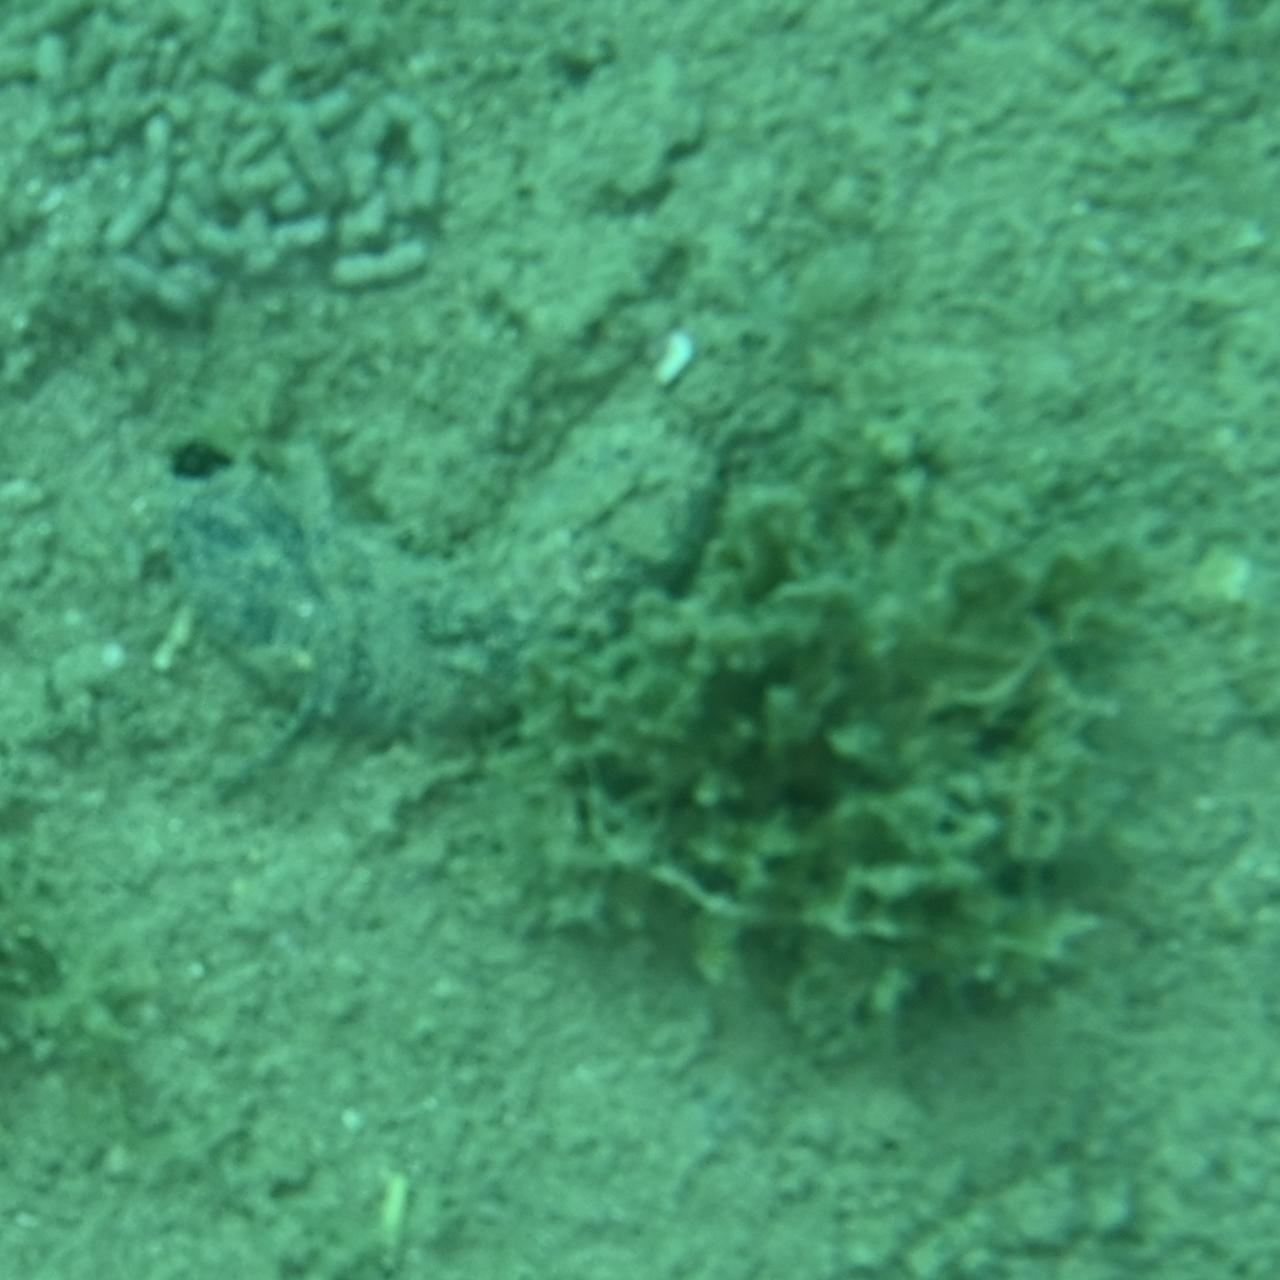Holothuria tubulosa: (116, 333, 801, 763)
Phaeophyceae -cfr Cystoseira-: (508, 427, 1136, 1040)
